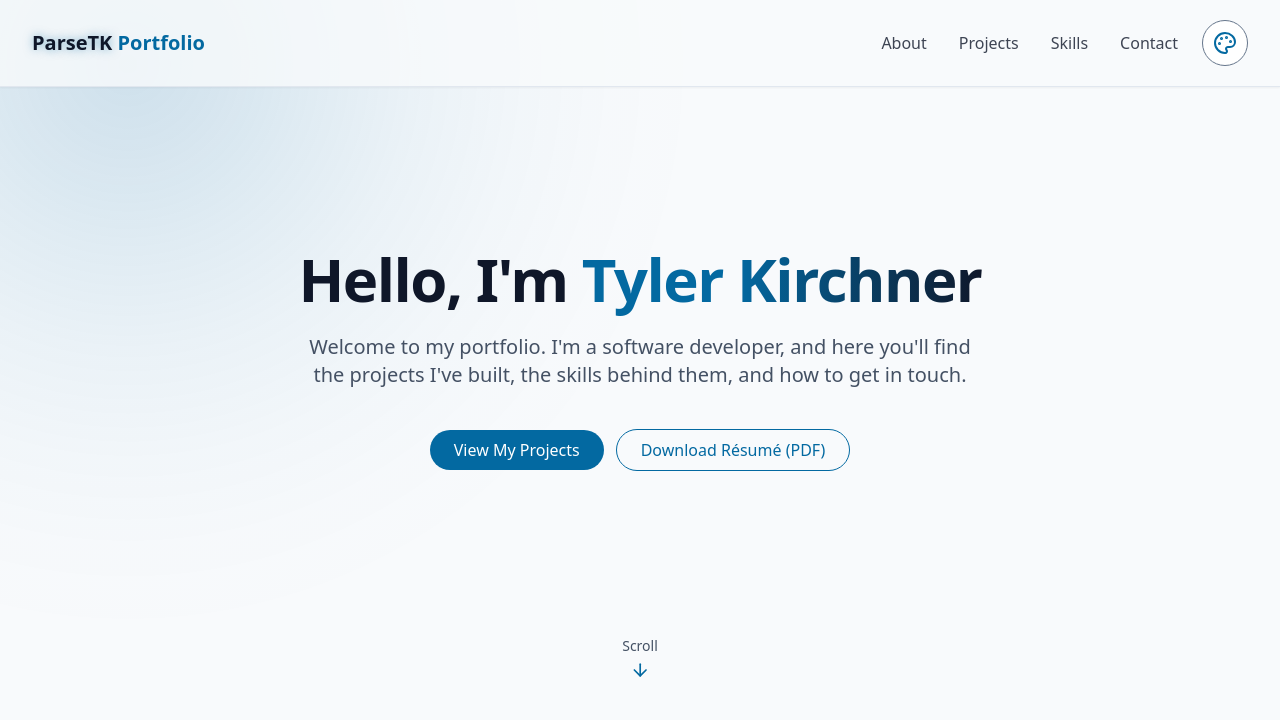
Test: Style panel › closes on Escape and returns focus to the button
The width and height of the screenshot is (1280, 720).
Click the button named "Style options".
click(1225, 43)  # box [1202, 20, 1248, 66]
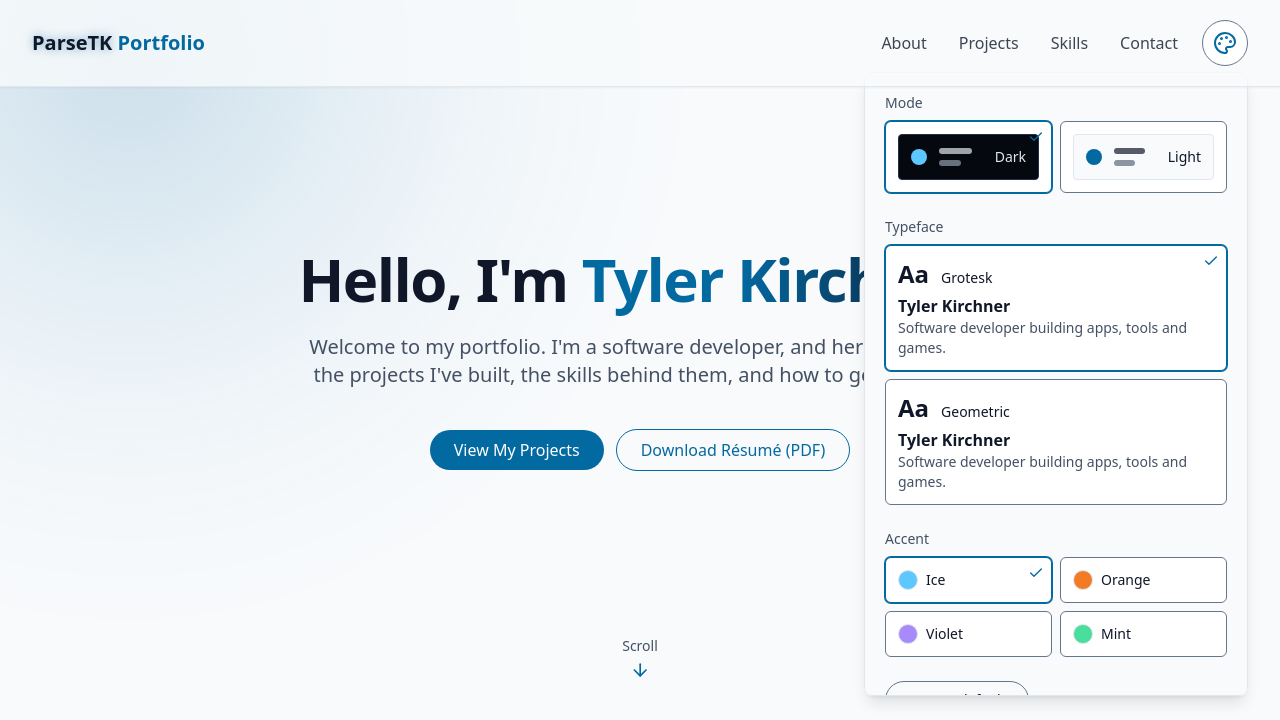
Press Escape
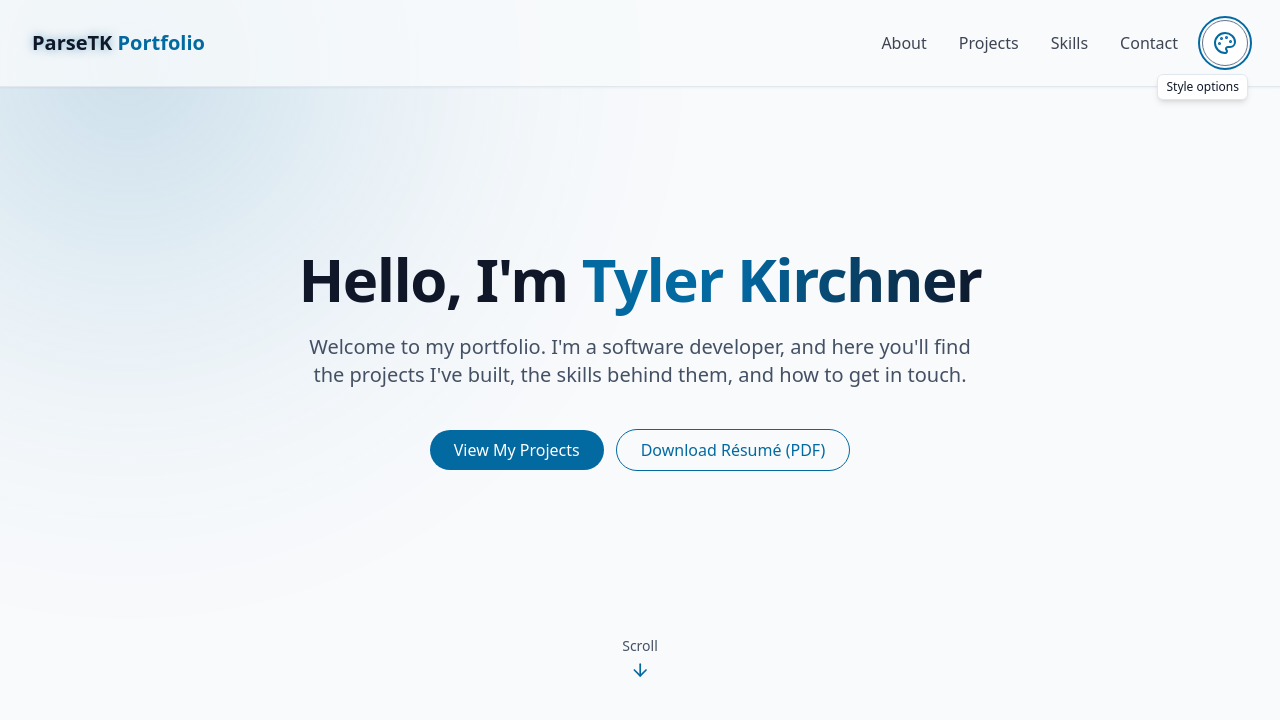
Now the button named "Style options" is collapsed, box [1202, 20, 1248, 66]
